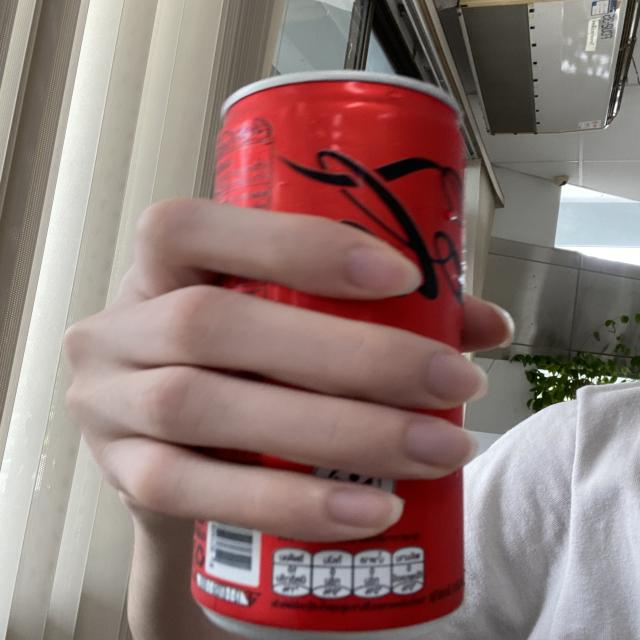can: (184, 65, 476, 640)
